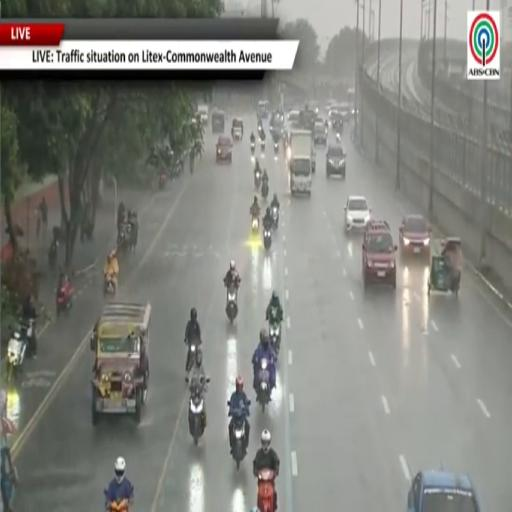car: (408, 471, 480, 511), (362, 220, 397, 289), (399, 215, 431, 254), (344, 196, 370, 231), (326, 144, 345, 179), (216, 136, 232, 163), (330, 103, 351, 121), (313, 121, 327, 145), (212, 110, 225, 134), (330, 111, 344, 132), (232, 118, 243, 140), (197, 105, 208, 125), (257, 101, 269, 119), (287, 109, 299, 123)
jeepney: (91, 302, 151, 424)
motorcycle: (6, 329, 27, 382), (189, 390, 205, 445), (232, 413, 247, 470), (257, 469, 275, 511), (258, 359, 270, 411), (56, 281, 73, 315), (226, 283, 238, 323), (269, 316, 281, 354), (20, 318, 35, 346), (186, 341, 197, 373), (48, 238, 58, 270), (104, 274, 116, 296), (107, 500, 128, 511), (261, 180, 269, 200), (264, 229, 271, 250), (272, 206, 278, 229), (252, 216, 259, 234), (159, 173, 166, 189), (255, 171, 261, 189), (260, 139, 265, 153), (274, 140, 278, 155), (251, 141, 255, 155), (336, 132, 341, 142)
truck: (288, 131, 312, 195), (288, 131, 315, 172)
